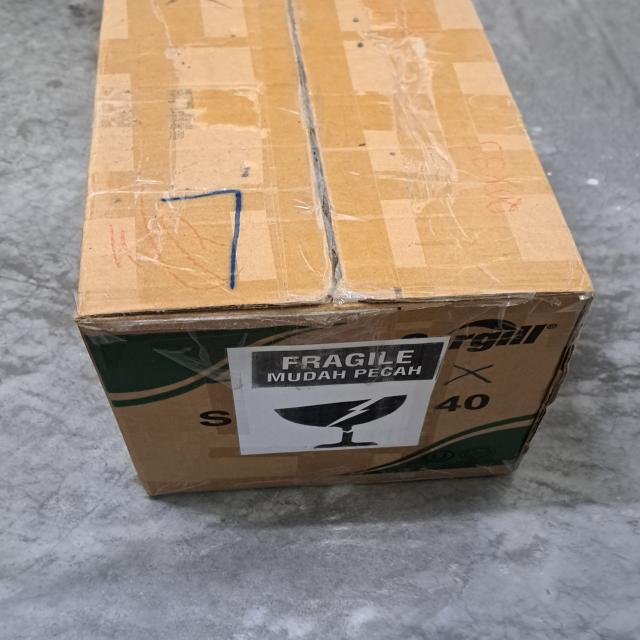cardboard: (78, 0, 592, 499)
